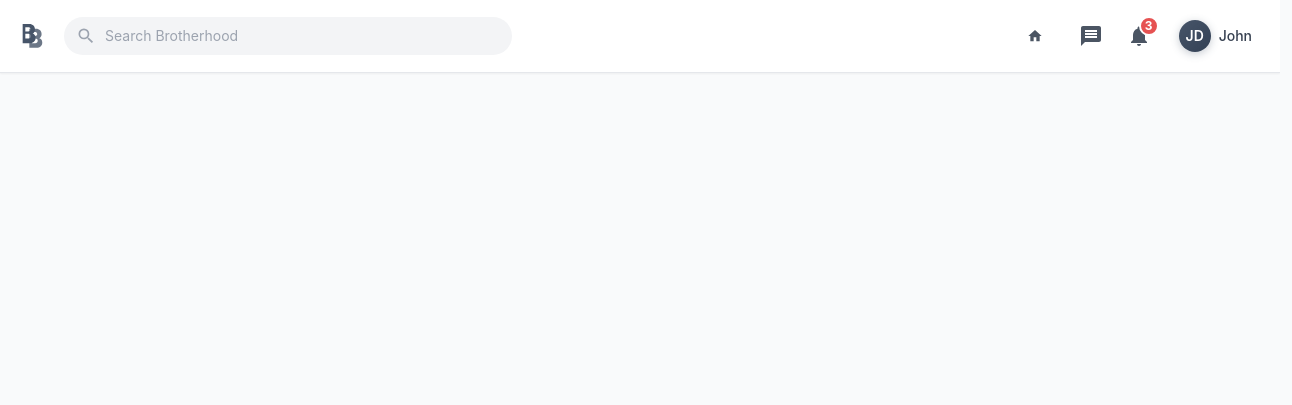
Test: Header Component › should toggle notifications menu
Step 1. Click the button named "Notifications" → point(1139, 36), box [1119,16,1159,56]
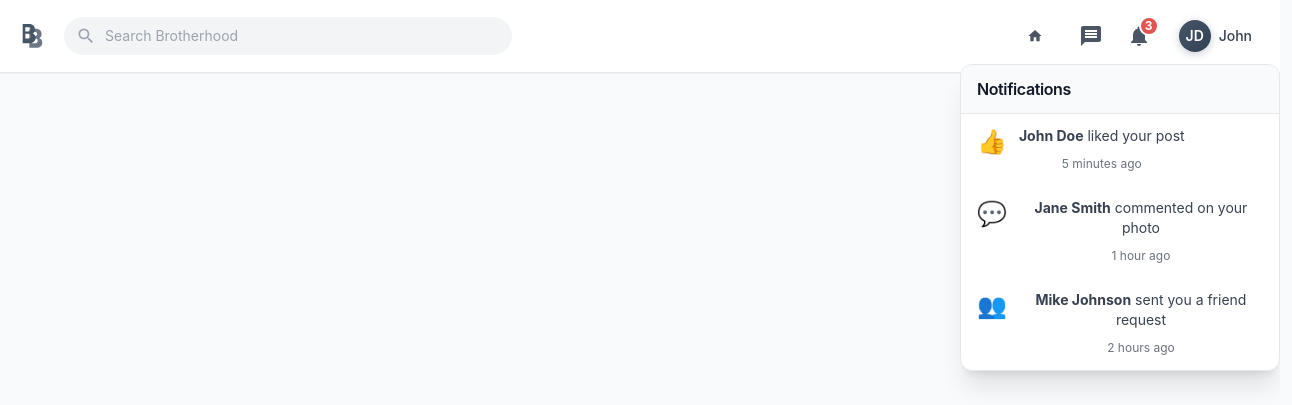
Result: the text "John Doe" is shown at [1019,127,1084,144]
Step 2. Click the button named "Notifications" → point(1139, 36), box [1119,16,1159,56]
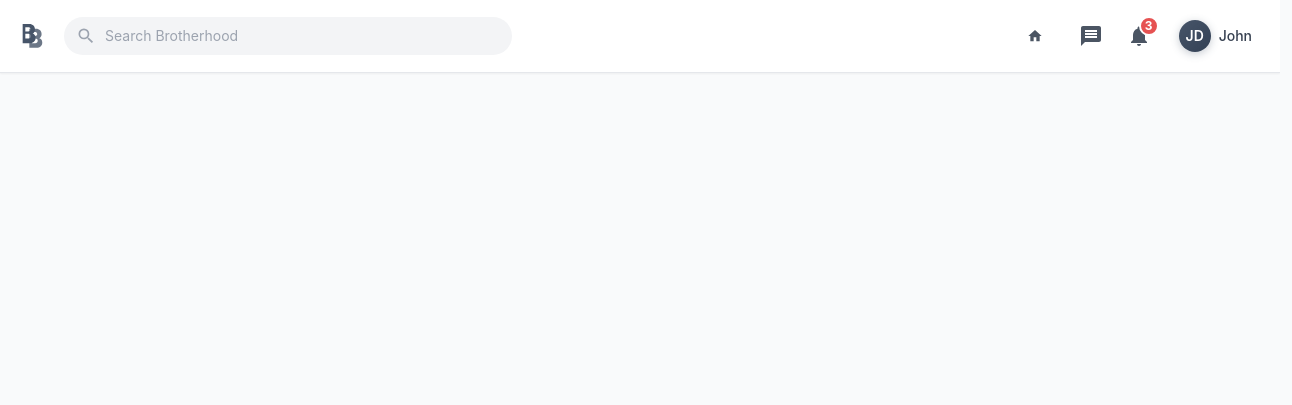
Result: the menu item "Jane Smith" is gone
